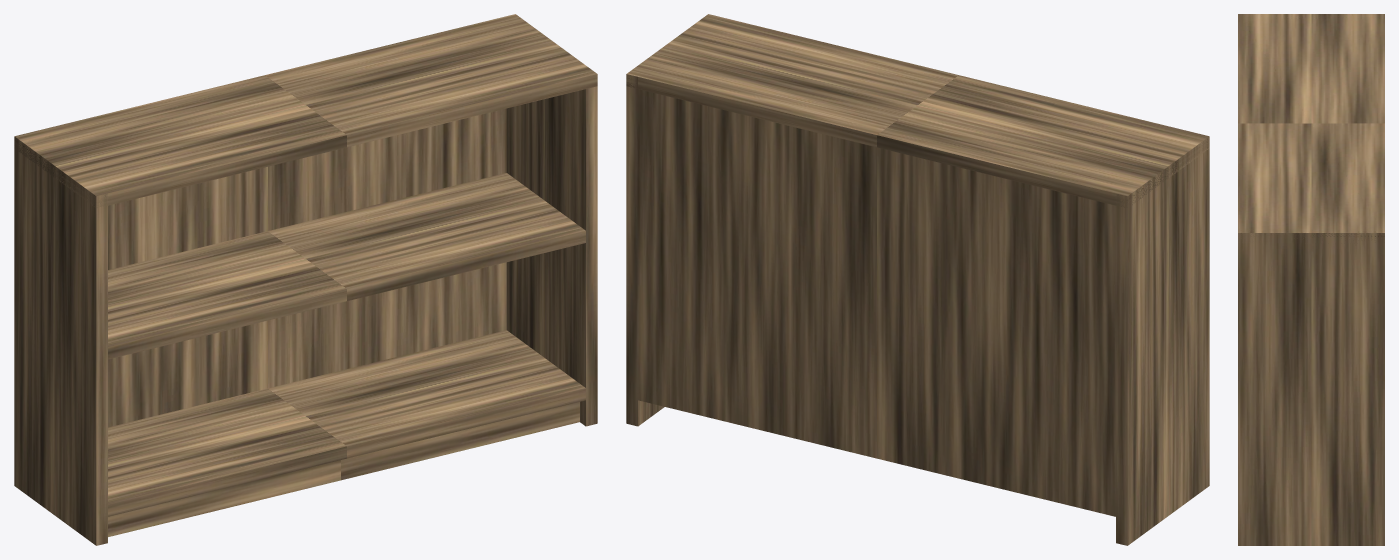
Rendered from obj-bookcase-oak-low.glb.
3 views of the same model, side by side, from view 1: azimuth 30°, elevation 25°; view 2: azimuth 150°, elevation 25°; view 3: azimuth 270°, elevation 25° (orthographic). The views are drawn at different scales.
Parts seen in each view (by area): view 1: obj-bookcase-oak-low; view 2: obj-bookcase-oak-low; view 3: obj-bookcase-oak-low.
Boxes of the visible parts, box(x1,y1,x2,y2) form: obj-bookcase-oak-low: box(14, 14, 597, 545); obj-bookcase-oak-low: box(626, 14, 1209, 545); obj-bookcase-oak-low: box(1238, 14, 1384, 545).
Size of the model in its own units: 1.2 by 0.8 by 0.34.
Materials: 1 (1 with a texture image).
